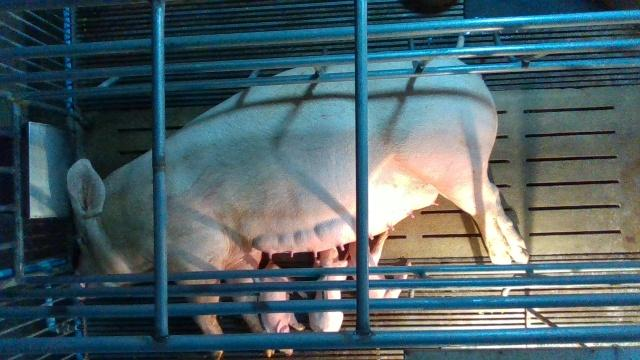piglet: (343, 231, 412, 299), (258, 262, 305, 356), (309, 247, 348, 332)
sow-sleep-lactate: (67, 53, 529, 360)
